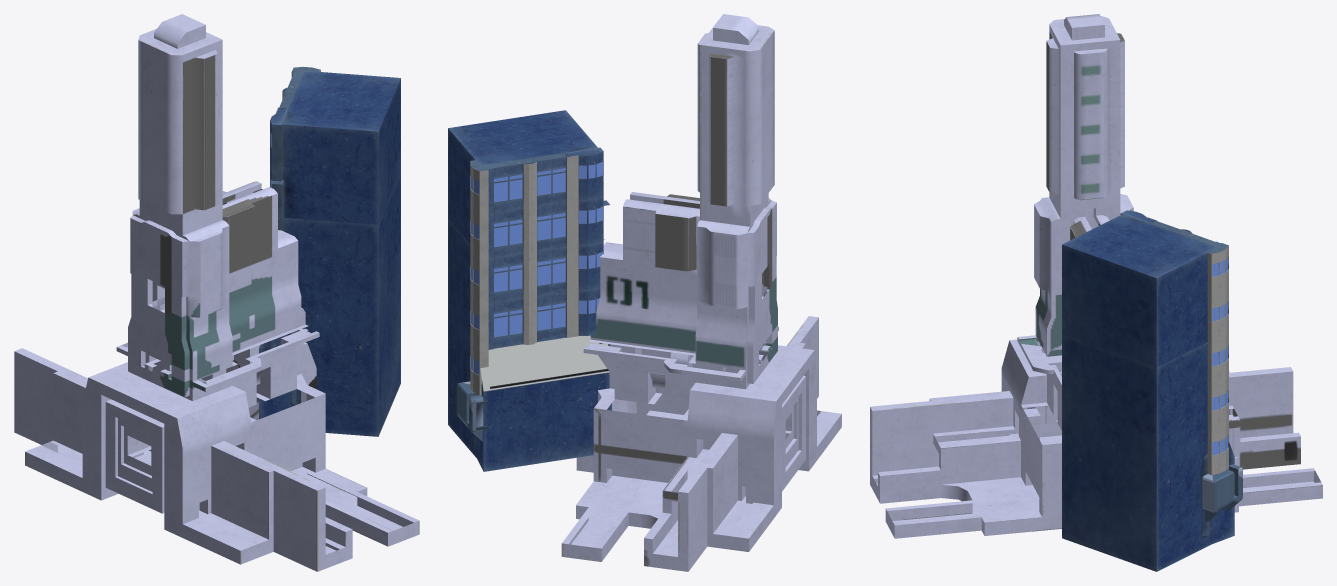
3 views of the same model, side by side, from view 1: azimuth 30°, elevation 25°; view 2: azimuth 150°, elevation 25°; view 3: azimuth 270°, elevation 25° (orthographic). The views are drawn at different scales.
Visible parts, largest first — view 1: building7, Cube_031, Cube_031.001; view 2: building7, Cube_031, Cube_031.001; view 3: building7, Cube_031, Cube_031.001.
Boxes of the visible parts, x1,y1,x2,y2 form: building7: [14, 14, 419, 571]; Cube_031: [259, 171, 400, 436]; Cube_031.001: [270, 66, 400, 224]; building7: [561, 14, 841, 571]; Cube_031: [448, 218, 611, 471]; Cube_031.001: [448, 110, 609, 261]; building7: [870, 14, 1322, 538]; Cube_031: [1062, 334, 1242, 571]; Cube_031.001: [1062, 210, 1228, 367].
Size of the model in its own units: 3742 by 4919 by 4449.
